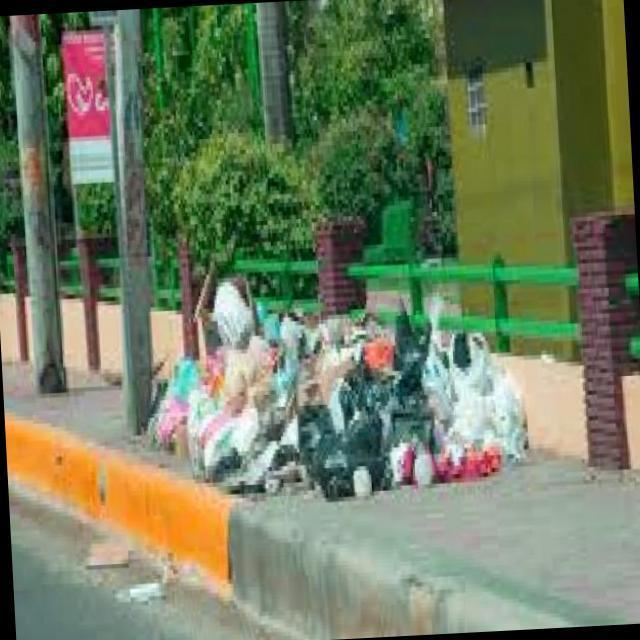garbage: (135, 235, 540, 510)
